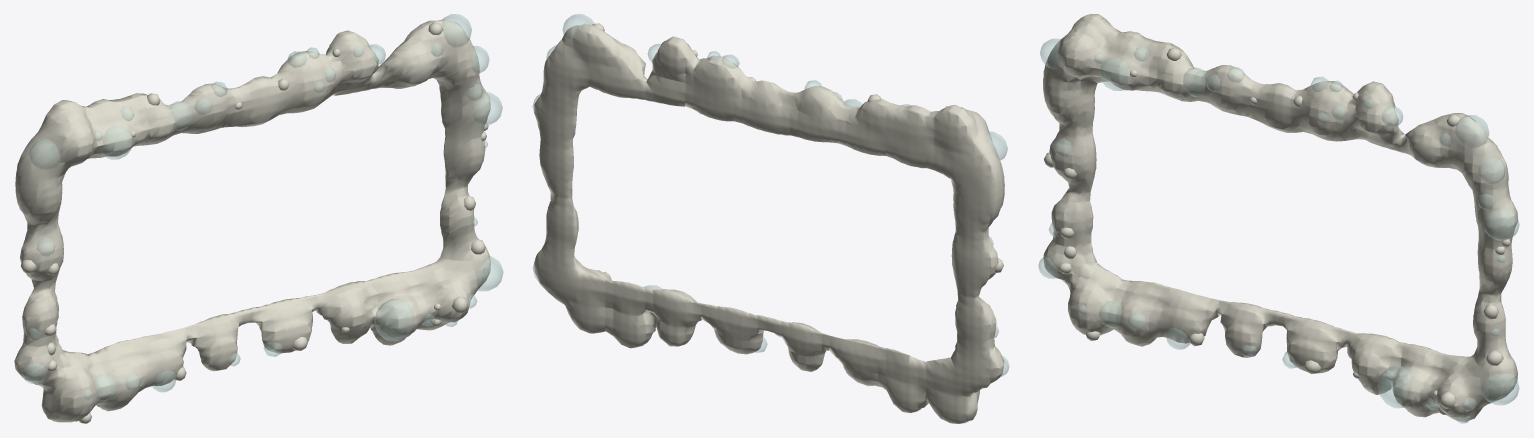
File: SM_SpongeContactFoam.obj
3 renders of one model, left to right at view 1: azimuth 30°, elevation 25°; view 2: azimuth 150°, elevation 25°; view 3: azimuth 330°, elevation 25°, orthographic.
Parts seen in each view (by area): view 1: SM_SpongeContactFoam; view 2: SM_SpongeContactFoam; view 3: SM_SpongeContactFoam.
Part boxes in pixels (left/top/right/bottom): SM_SpongeContactFoam: left=14, top=14, right=503, bottom=423; SM_SpongeContactFoam: left=532, top=14, right=1009, bottom=423; SM_SpongeContactFoam: left=1038, top=14, right=1519, bottom=423.
Size of the model in its own units: 183 by 118 by 19.99.
